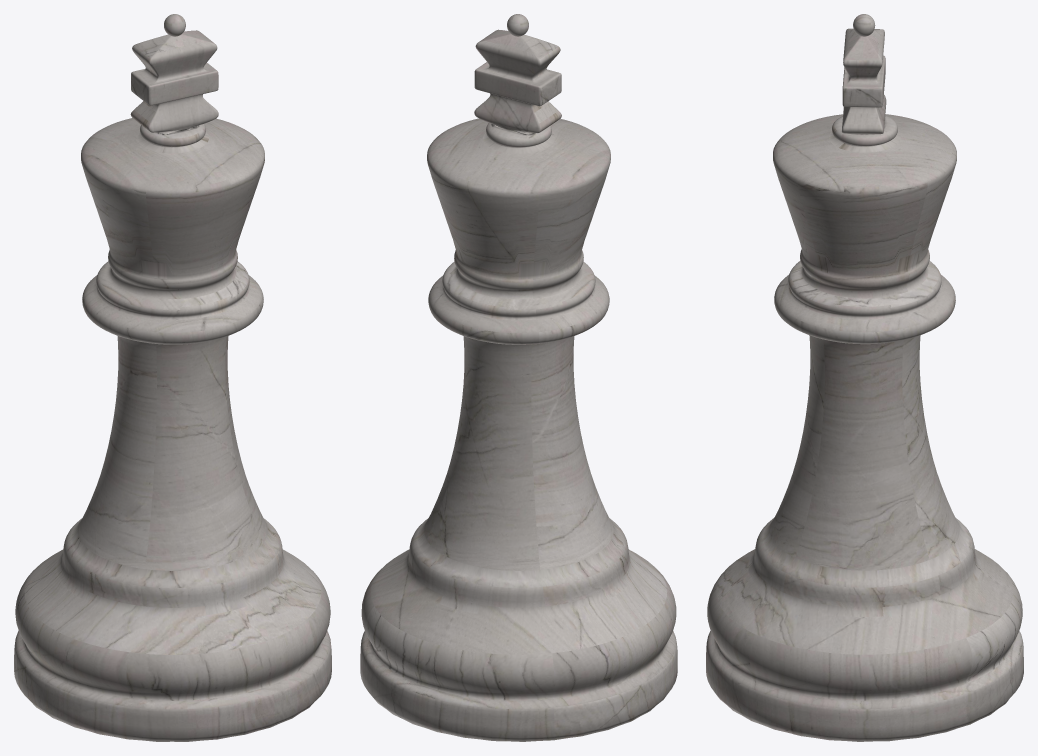
File: WKing.glb
The picture shows the model from 3 angles, left to right: view 1: azimuth 30°, elevation 25°; view 2: azimuth 150°, elevation 25°; view 3: azimuth 270°, elevation 25°; orthographic projection.
Visible parts, largest first — view 1: Circle.017; view 2: Circle.017; view 3: Circle.017.
Part boxes in pixels (x1,y1,x2,y2): Circle.017: (14, 14, 331, 741); Circle.017: (360, 14, 677, 741); Circle.017: (706, 14, 1023, 741).
Bounding box in the file's own units: 3.26 × 7.54 × 3.26.
1 material, 1 textured.
